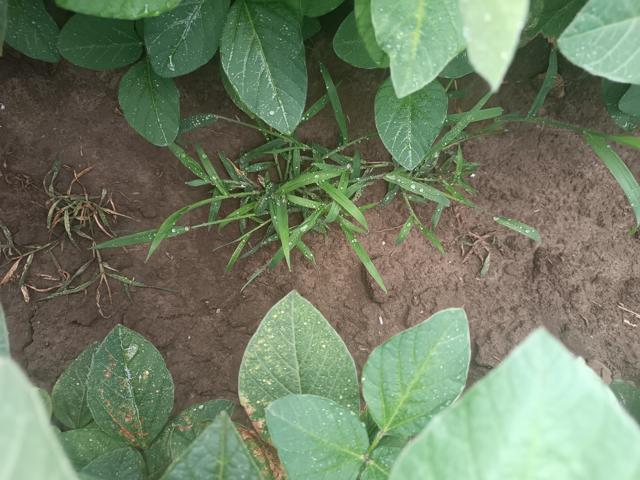bad weed: (174, 132, 384, 269), (0, 197, 126, 318), (383, 149, 513, 248)
